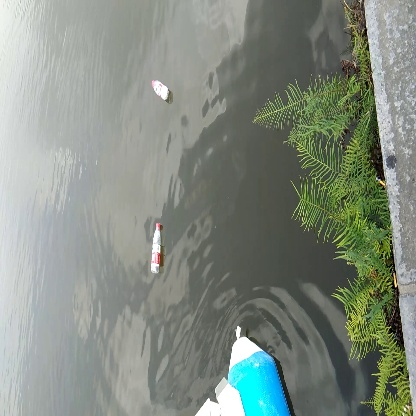bottle: (149, 219, 168, 280), (148, 75, 175, 105)
